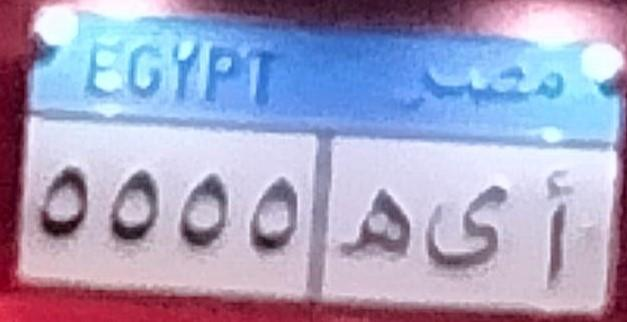5: (242, 174, 303, 257), (171, 171, 229, 252), (37, 163, 96, 241), (105, 165, 161, 240)
alif: (534, 167, 577, 297)
haa: (338, 177, 415, 273)
yaa: (422, 180, 507, 279)
